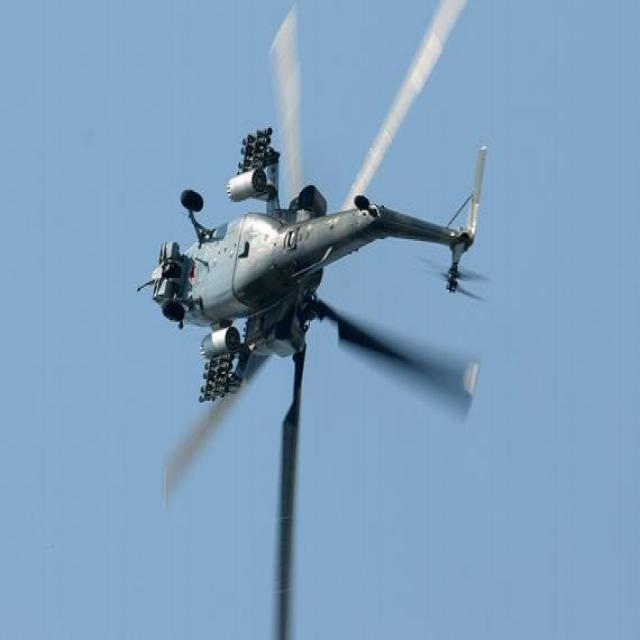MIL_HELO: (106, 0, 492, 640)
